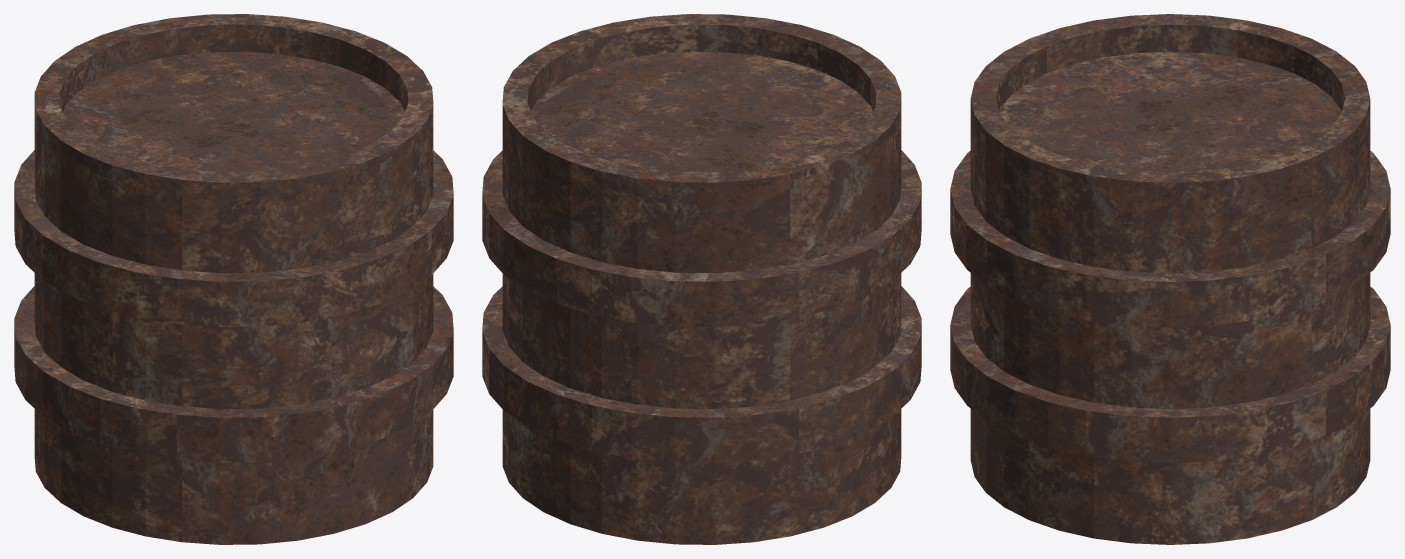
The model's file is Barrel.glb.
3 renders of one model, left to right at view 1: azimuth 30°, elevation 25°; view 2: azimuth 150°, elevation 25°; view 3: azimuth 270°, elevation 25°, orthographic.
Visible parts, largest first — view 1: Cylinder; view 2: Cylinder; view 3: Cylinder.
Boxes of the visible parts, left/top/right/bottom form: Cylinder: left=14, top=14, right=453, bottom=544; Cylinder: left=482, top=14, right=921, bottom=544; Cylinder: left=950, top=14, right=1390, bottom=544.
Size of the model in its own units: 0.5166 by 0.4689 by 0.5166.
Materials: 1 (1 with a texture image).
